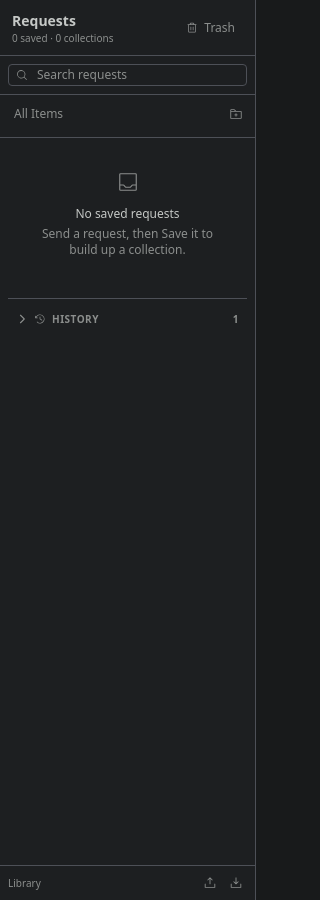
Scenario: ApiClient › renders history rows as restore buttons
The width and height of the screenshot is (320, 900).
Click the text "History": (76, 319) left=52, top=312, right=99, bottom=326
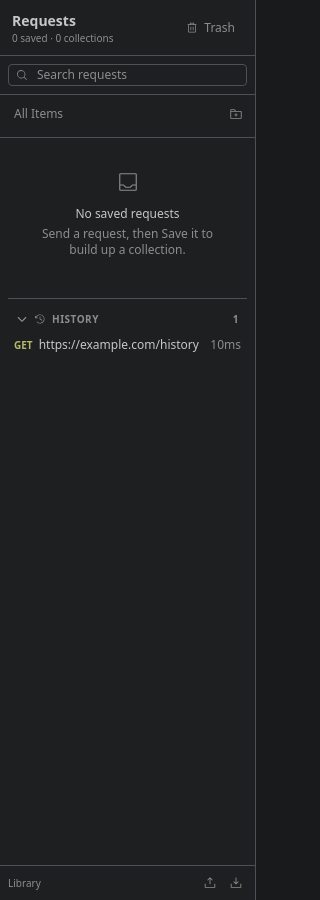
Now the button with aria-label "Restore GET https://example.com/history" is shown, box left=8, top=335, right=247, bottom=355
